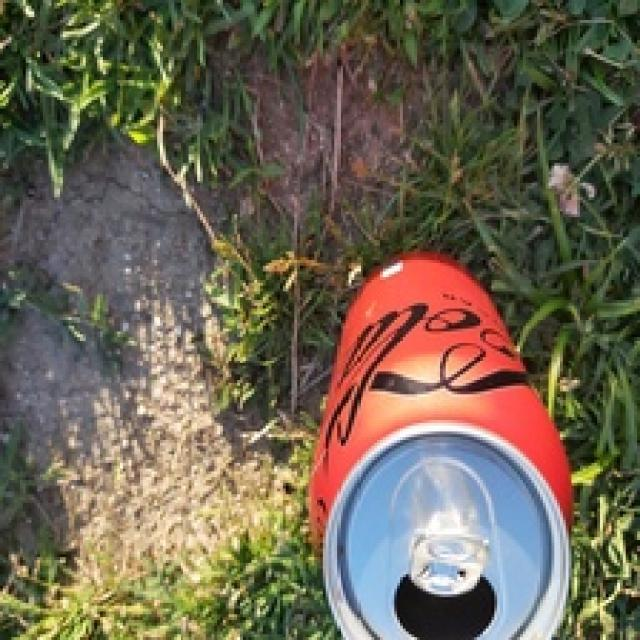recyclable: (309, 248, 576, 640)
